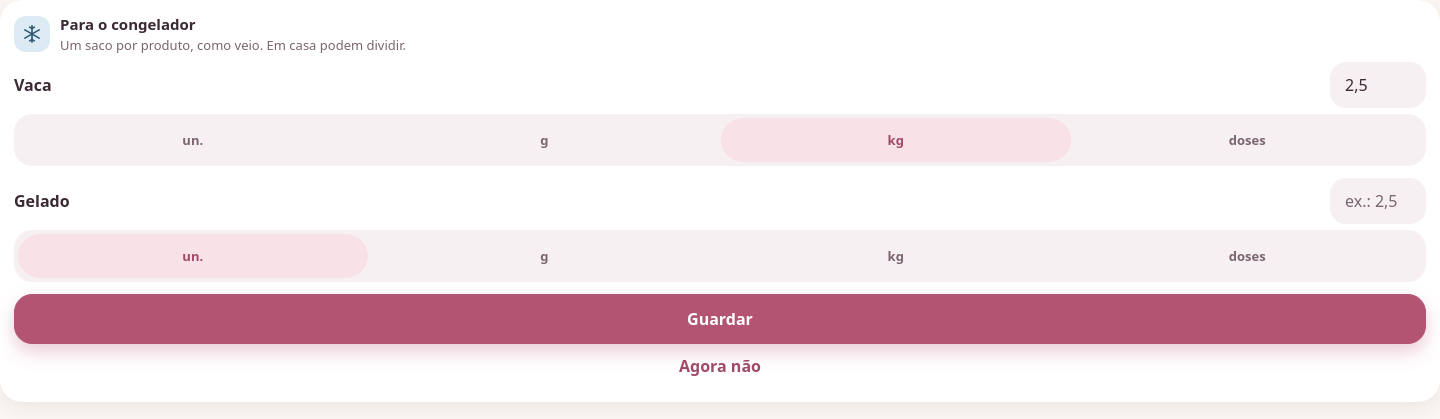
Test case: an invalid row stays marked and does not block the others
Step 1. Replace the text in the field named "Quantidade de Vaca" with "2" → (1378, 85), box [1330,62,1426,108]
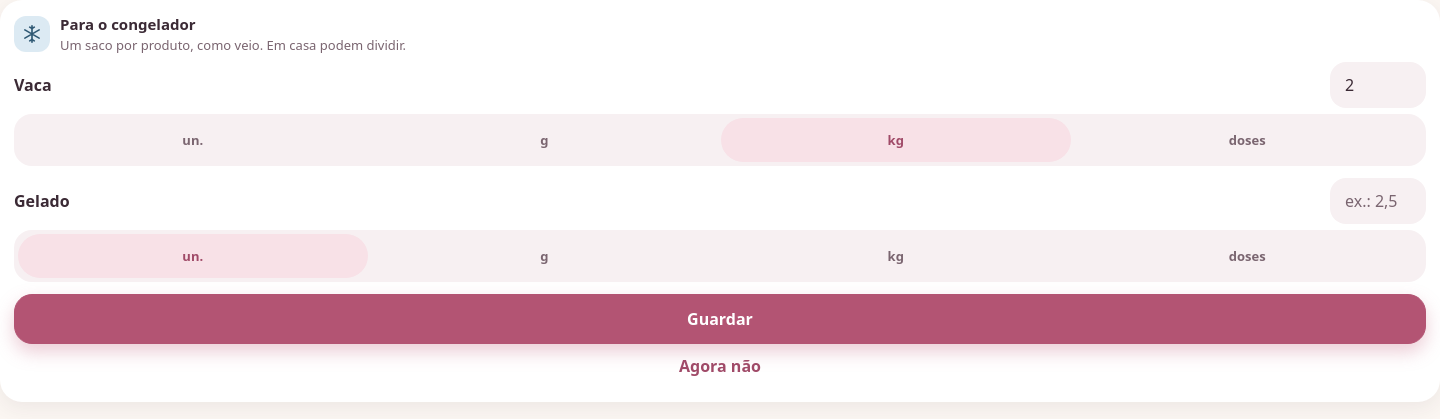
Step 2. Type "abc" into the field named "Quantidade de Gelado" → (1378, 201), box [1330,178,1426,224]
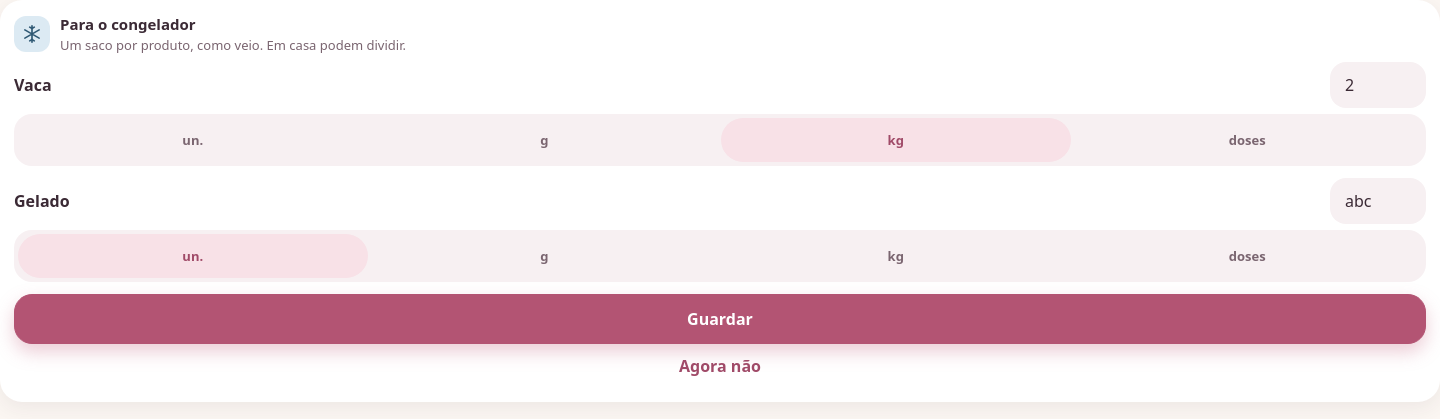
Step 3. Click the button "Guardar" → click(720, 319), box [14,294,1426,344]
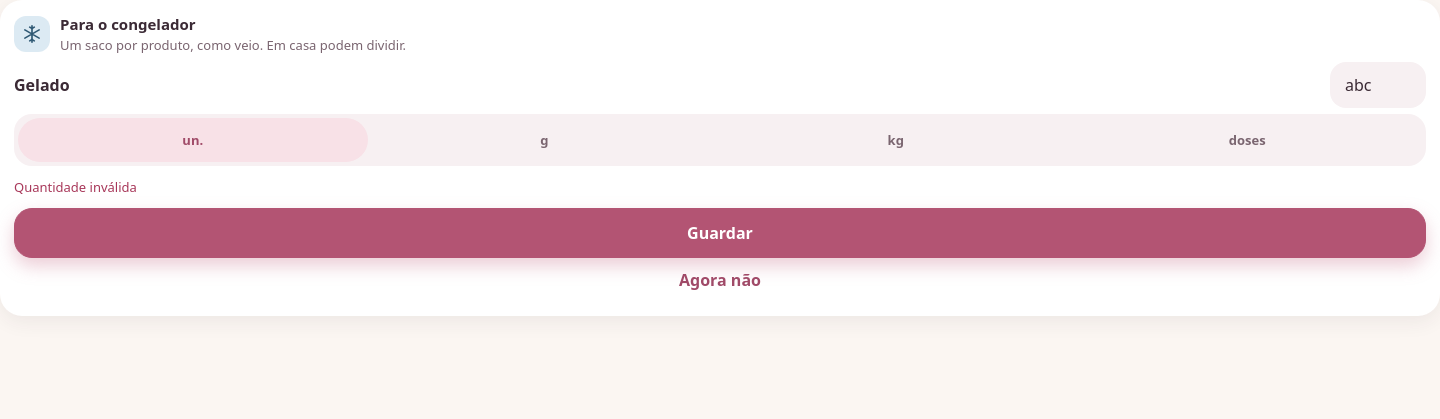
expect the text "Quantidade inválida" is shown: met, box [14,178,137,196]
